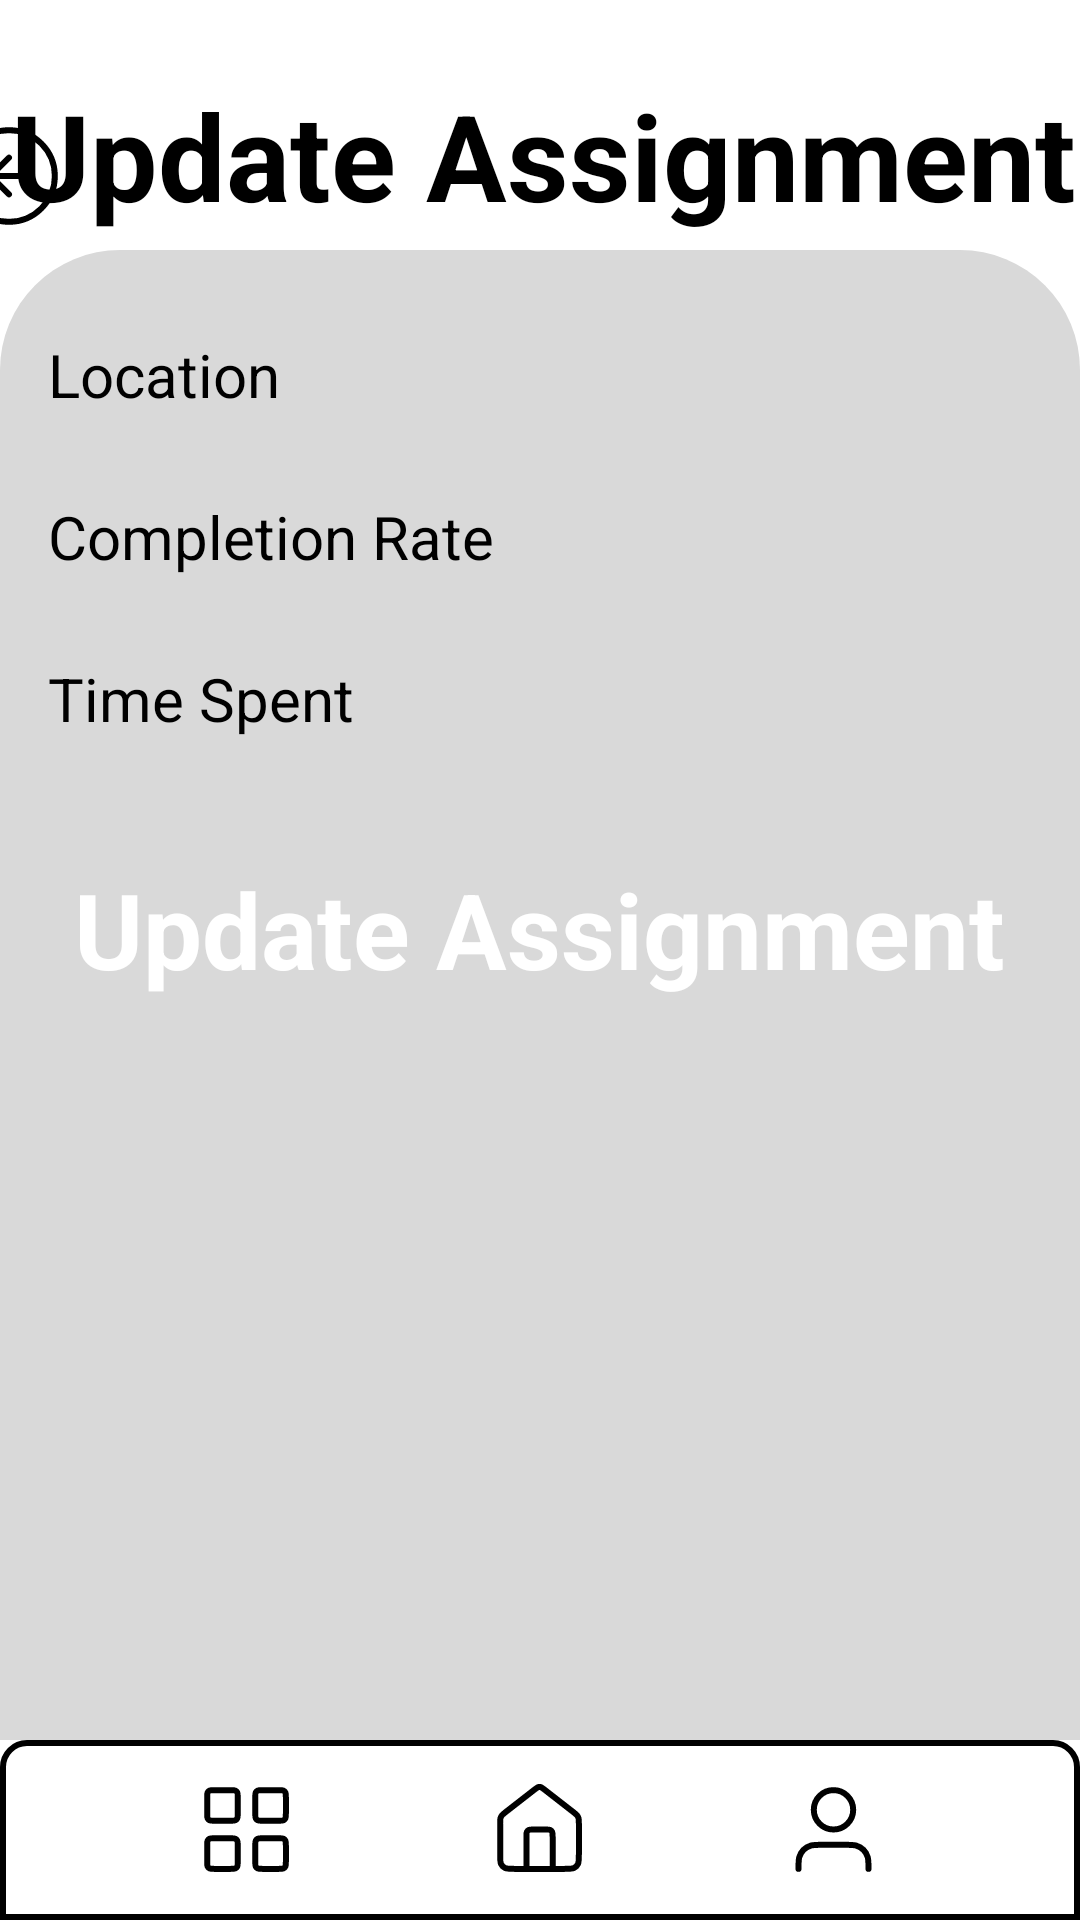

Where to tap for icons on this 1080×1920 app screen, as (x,y):
grid: (246,1829)
home: (539,1828)
user: (833,1829)
